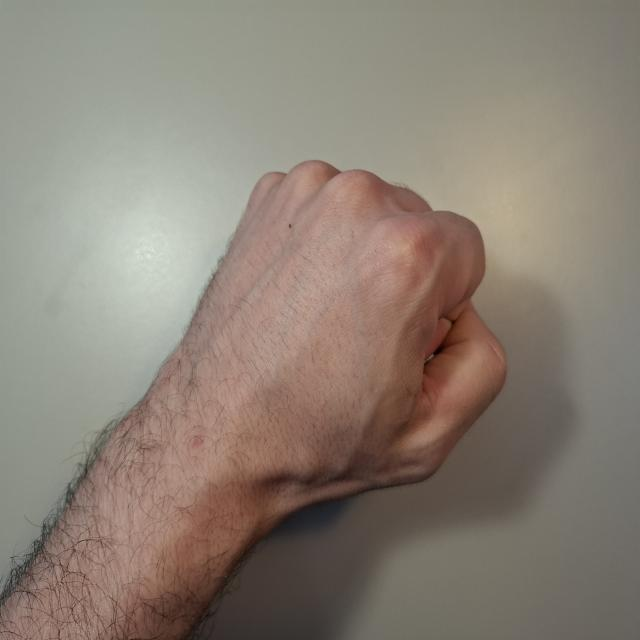glove_off: (148, 156, 509, 520)
